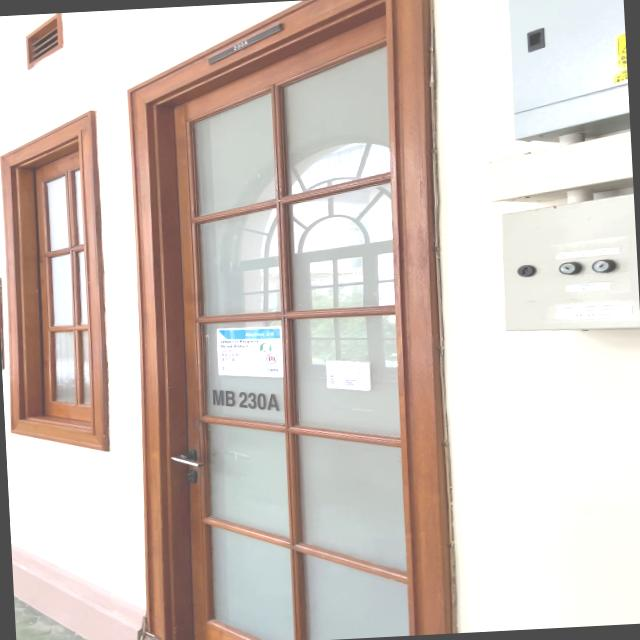room230A: (228, 38, 251, 54)
room230AWindow: (210, 384, 282, 416)
